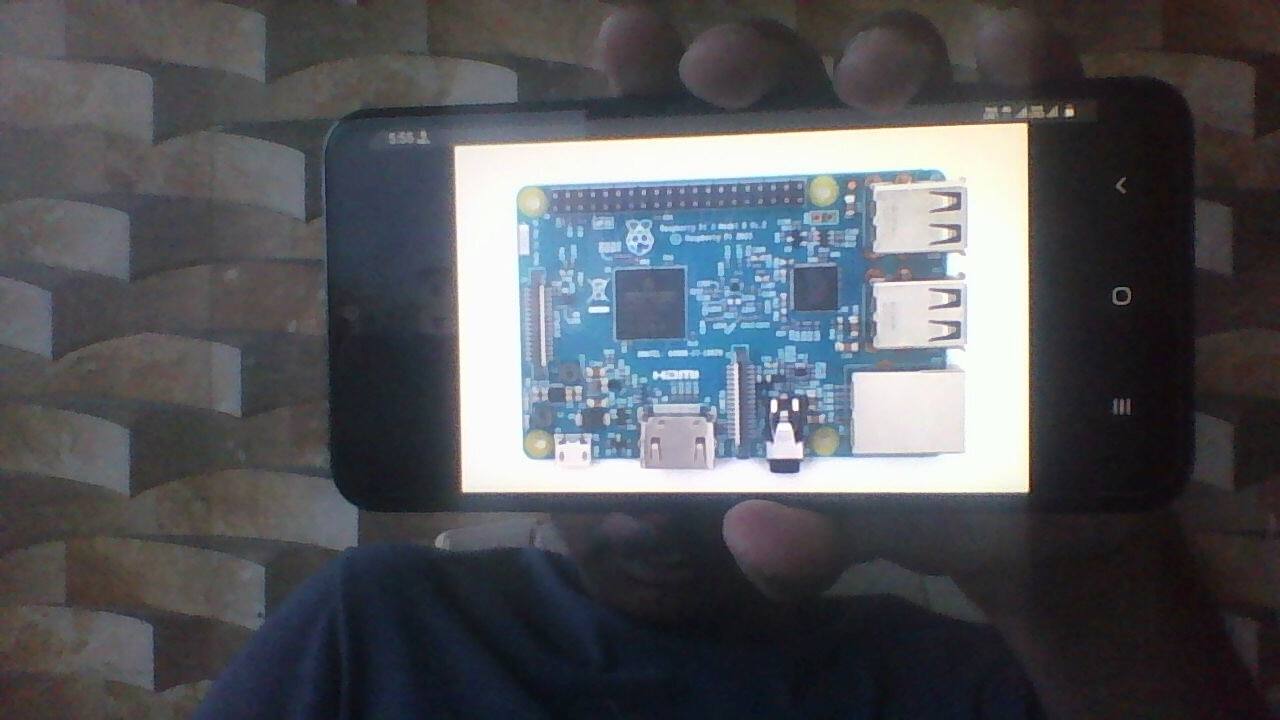aud: (765, 390, 804, 478)
eth: (848, 368, 968, 458)
usb: (868, 275, 969, 350), (866, 185, 968, 253)
